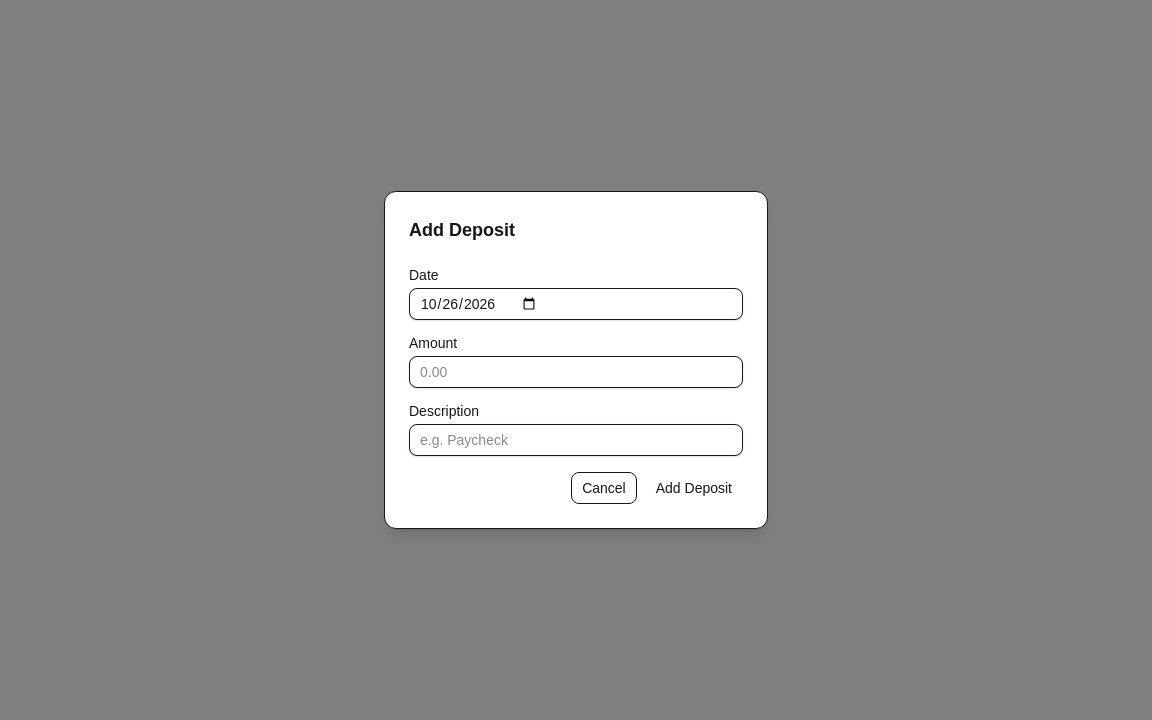
Test: AddDepositDialog › Criterion 4: Validation — amount positive, description non-empty › shows amount required error when amount is empty
Type "Test" into the field labelled "Description" at (576, 440), box x1=409 y1=424 x2=743 y2=456
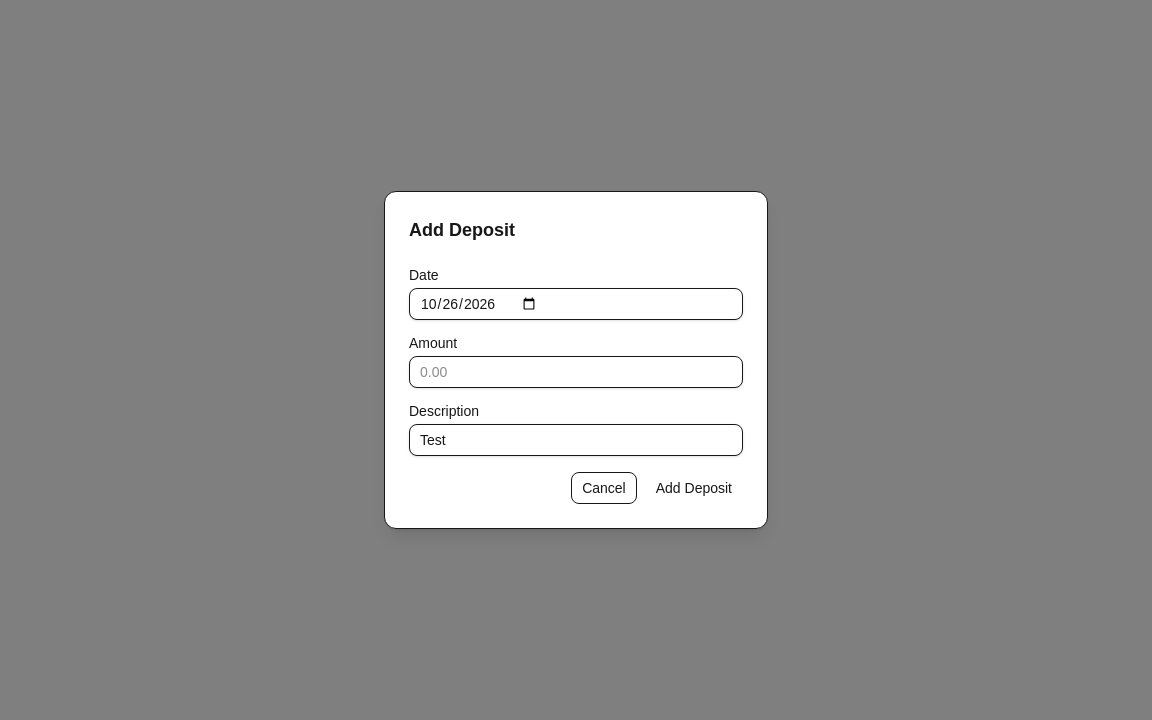
Submit the form, box x1=409 y1=260 x2=743 y2=504
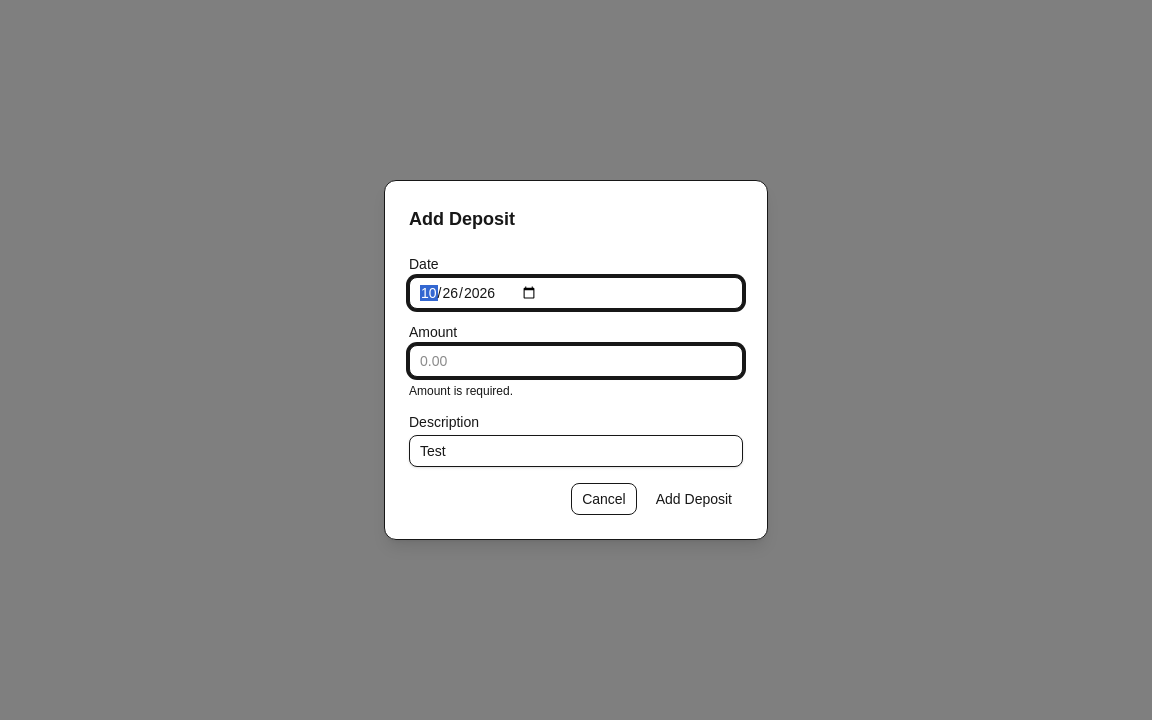
Expected: the text "Amount is required." is shown, x1=409 y1=384 x2=513 y2=398
